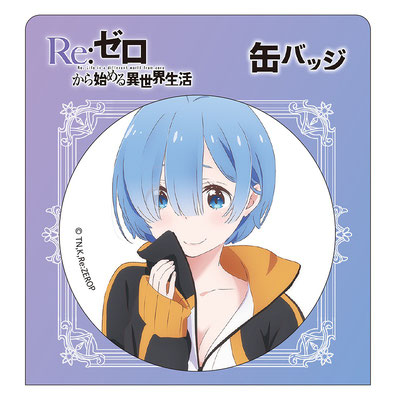rem: (103, 98, 275, 362)
